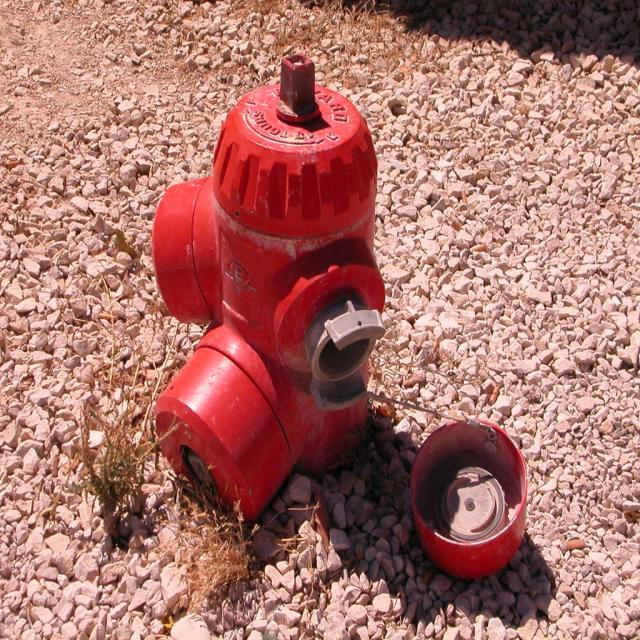fire_hydrant: (156, 53, 387, 523)
